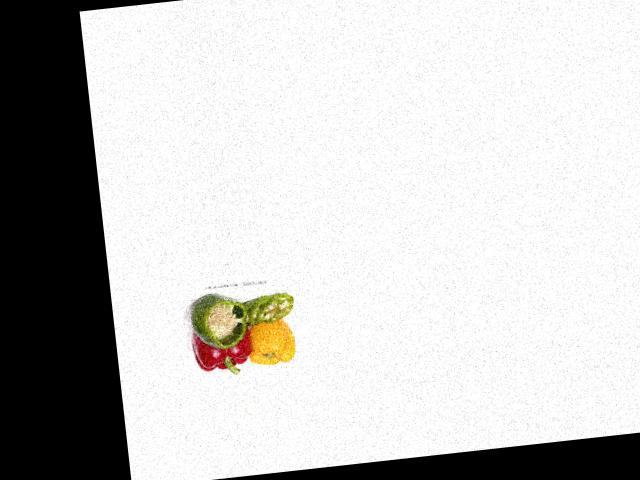bell_pepper: (183, 294, 251, 354)
